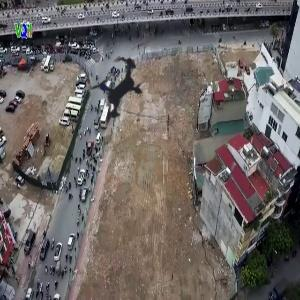drone: (63, 35, 172, 144)
